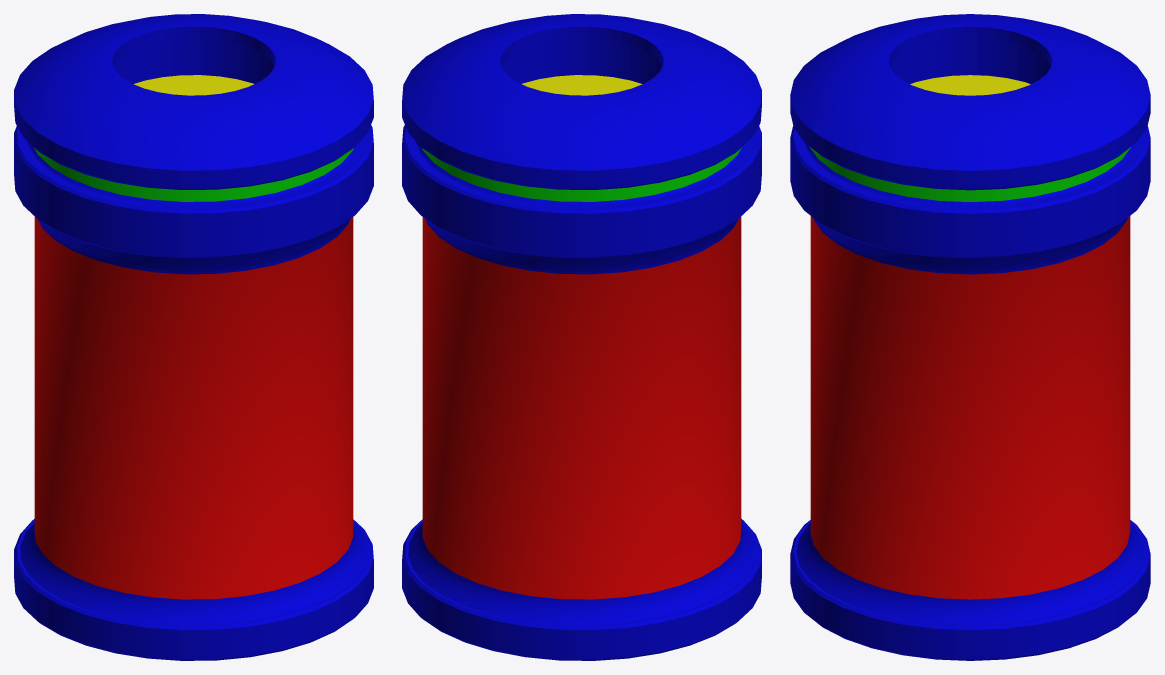
The model's file is bin_low.fbx.
3 renders of one model, left to right at view 1: azimuth 30°, elevation 25°; view 2: azimuth 150°, elevation 25°; view 3: azimuth 270°, elevation 25°, orthographic.
Parts seen in each view (by area): view 1: bin_low; view 2: bin_low; view 3: bin_low.
Part boxes in pixels (box(x1,y1,x2,y2)): bin_low: box(14, 14, 373, 660); bin_low: box(402, 14, 761, 660); bin_low: box(790, 14, 1150, 660).
Size of the model in its own units: 66.54 by 107 by 66.54.
